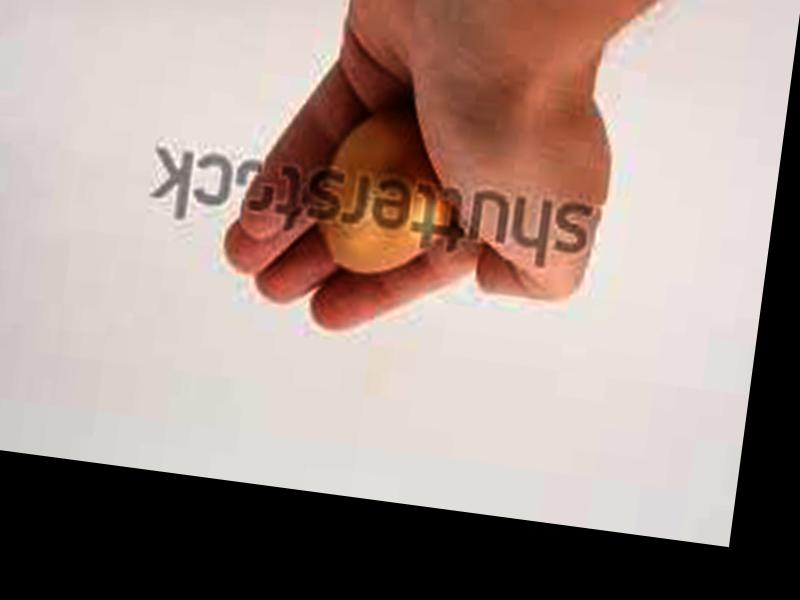Eggs: (314, 104, 459, 282)
